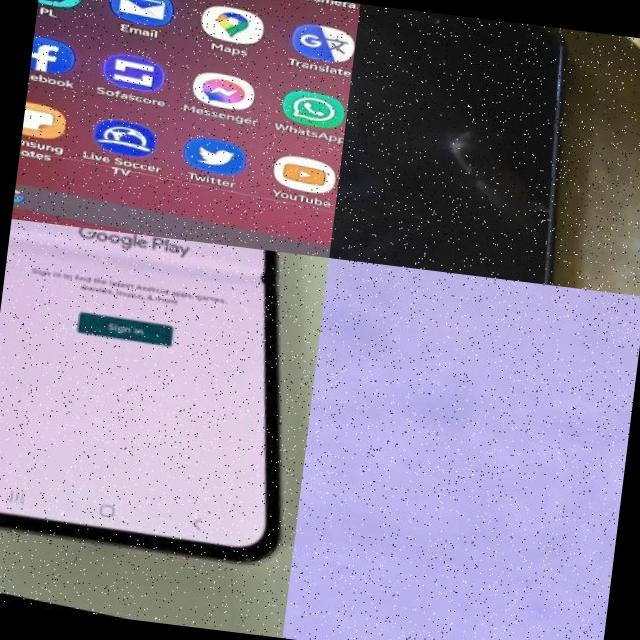dead pixel: (238, 258, 295, 305)
